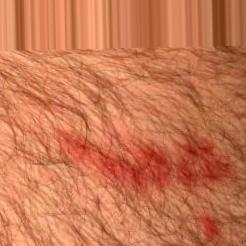Fleas: (51, 131, 176, 196), (177, 141, 229, 186), (197, 218, 219, 241)
